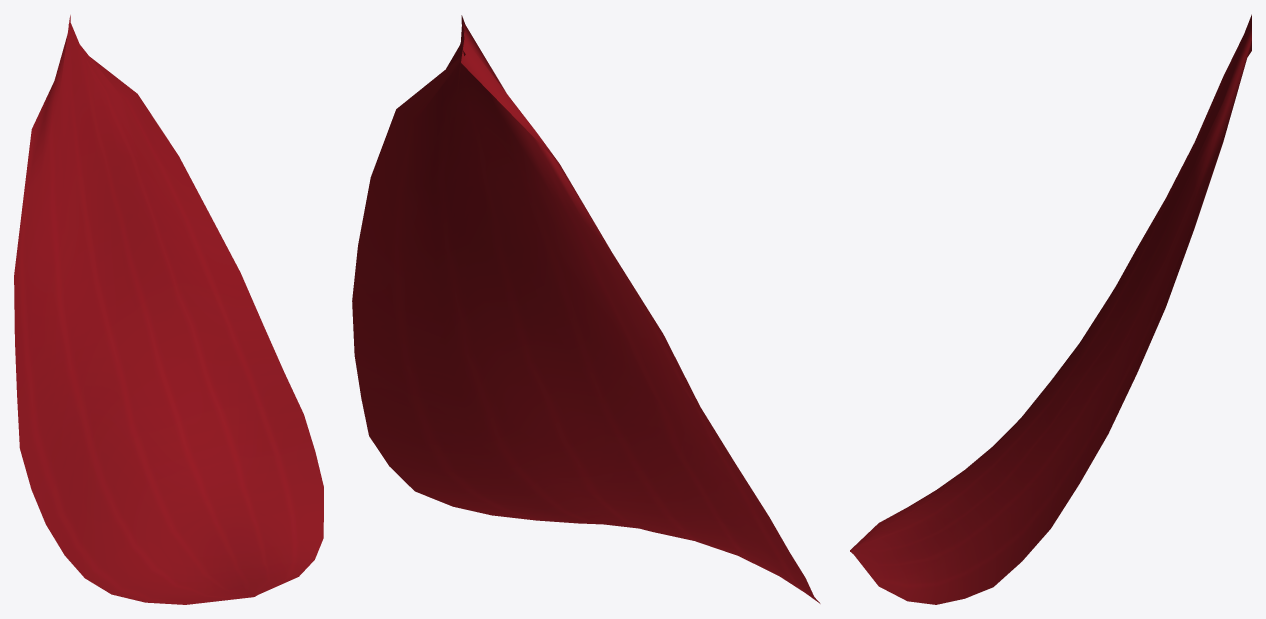
Rendered from petal_12_curved.glb.
The picture shows the model from 3 angles, left to right: view 1: azimuth 30°, elevation 25°; view 2: azimuth 150°, elevation 25°; view 3: azimuth 270°, elevation 25°; orthographic projection. The views are drawn at different scales.
Visible parts, largest first — view 1: petal_12_curved; view 2: petal_12_curved; view 3: petal_12_curved.
Boxes of the visible parts, <box> form: petal_12_curved: <box>14,15,323,604</box>; petal_12_curved: <box>352,15,820,603</box>; petal_12_curved: <box>850,14,1251,604</box>.
Bounding box in the file's own units: 0.0783 × 0.1268 × 0.0863.
Materials: 1 (1 with a texture image).
